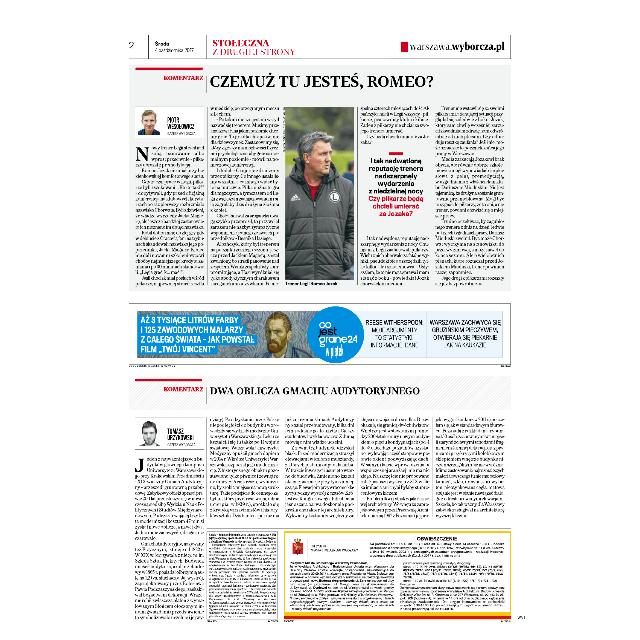article: (132, 377, 514, 625), (130, 66, 506, 290)
